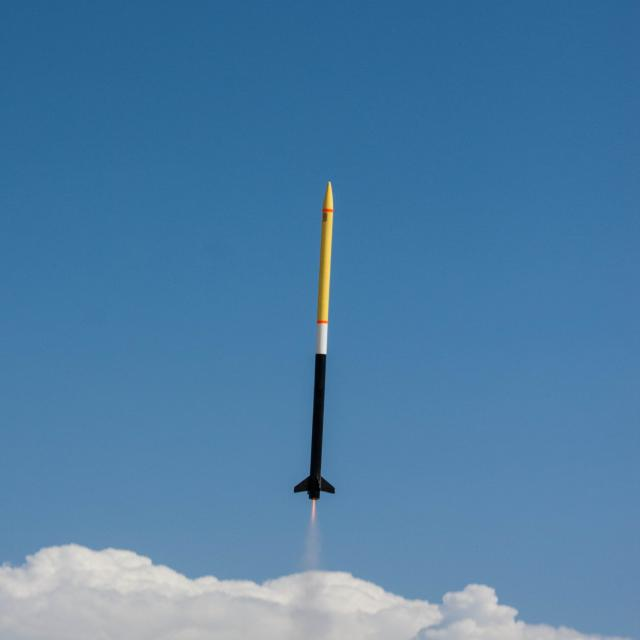Rocket: (292, 180, 338, 501)
